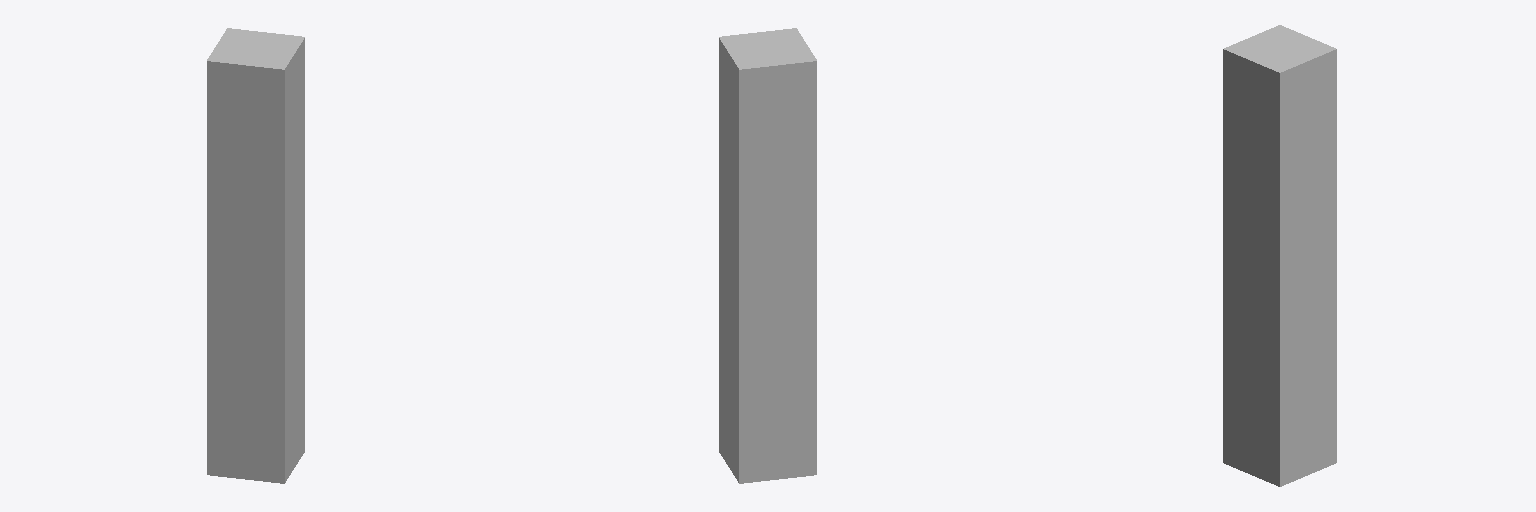
Rendered from EdificioSimple.obj.
3 views of the same model, side by side, from view 1: azimuth 30°, elevation 25°; view 2: azimuth 150°, elevation 25°; view 3: azimuth 270°, elevation 25° (orthographic).
Bounding box in the file's own units: 20 × 80 × 20.